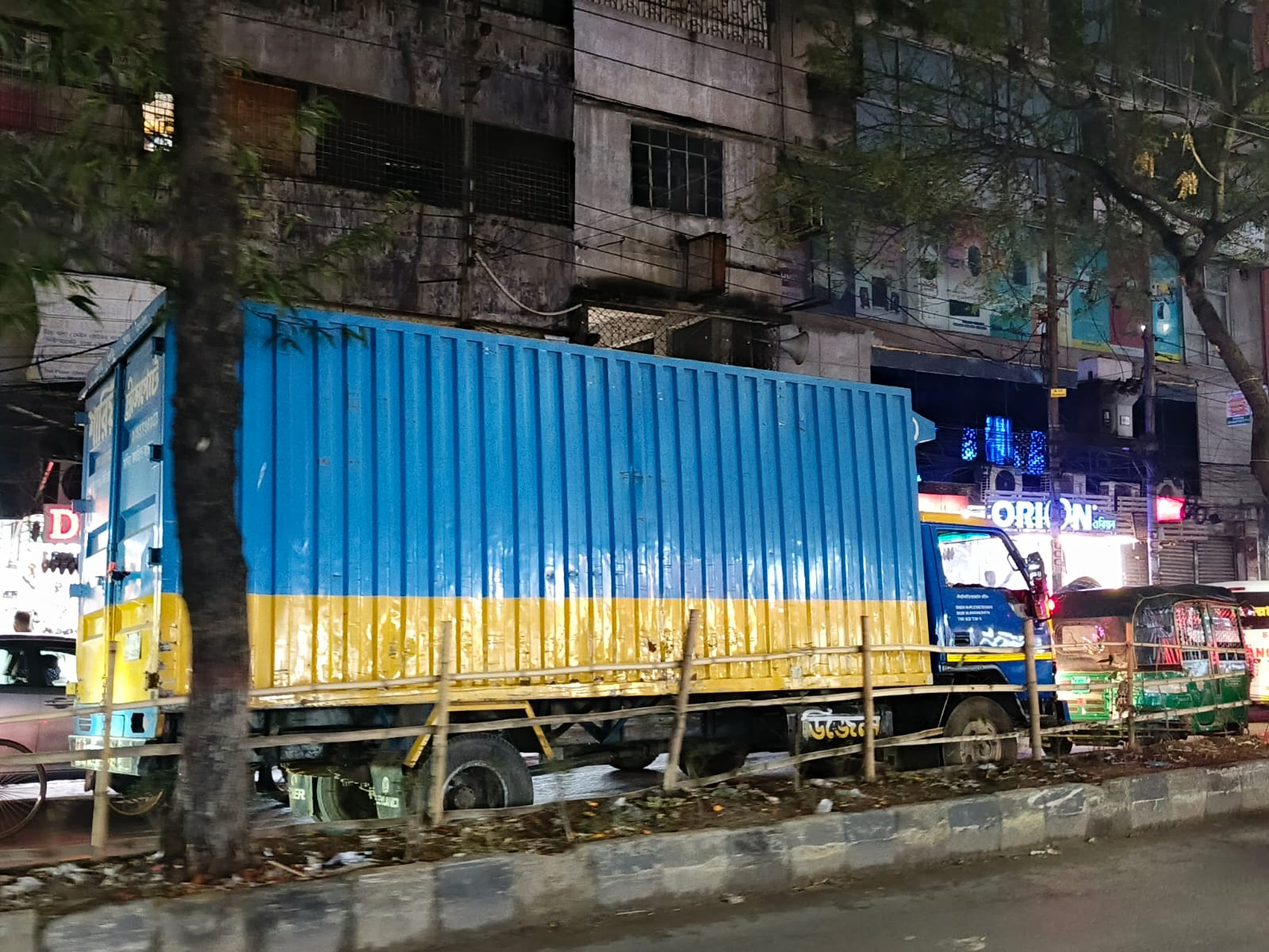Ambulance: (1213, 502, 1269, 704)
Truck: (61, 167, 1052, 864)
cng: (1053, 552, 1264, 783)
private car: (10, 580, 144, 889)
